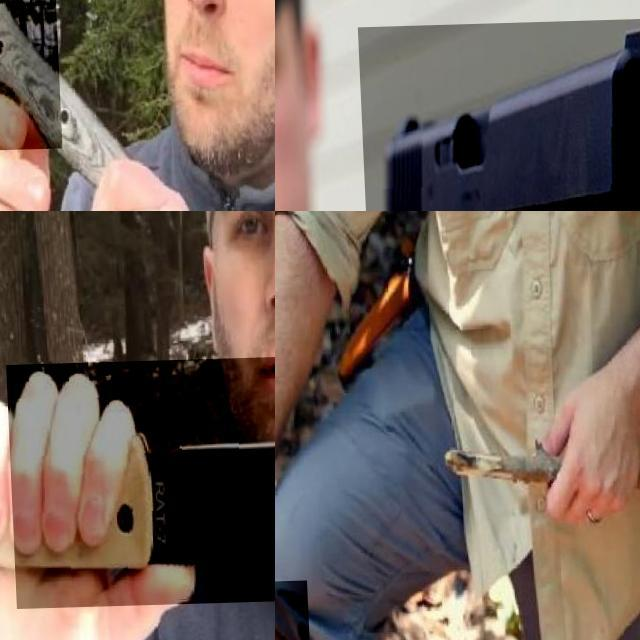-: (2, 355, 275, 609), (0, 0, 116, 163)
gun-knife-thesis - v11 Yolov5 augmented: (357, 20, 640, 211)
